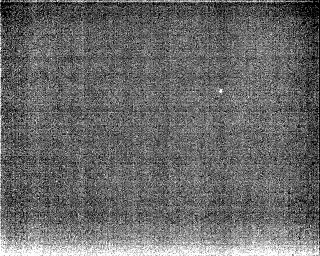BIRD: (217, 86, 225, 96)
